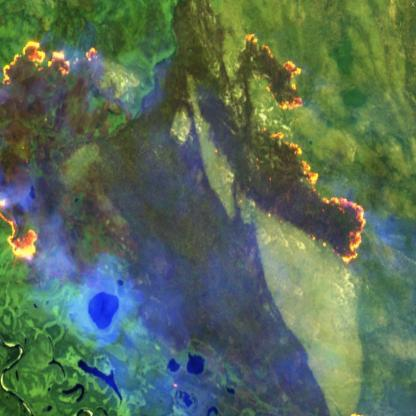fire: (237, 24, 368, 276), (0, 33, 103, 260)
